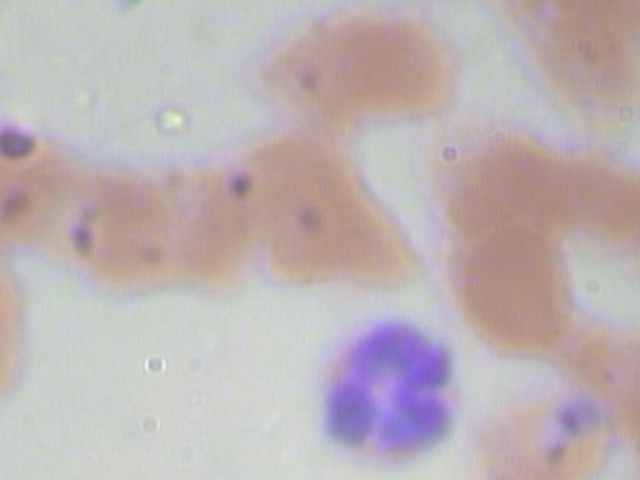RBC: (251, 0, 456, 135), (441, 224, 575, 352), (0, 245, 32, 416)
WBC: (305, 311, 476, 474)
